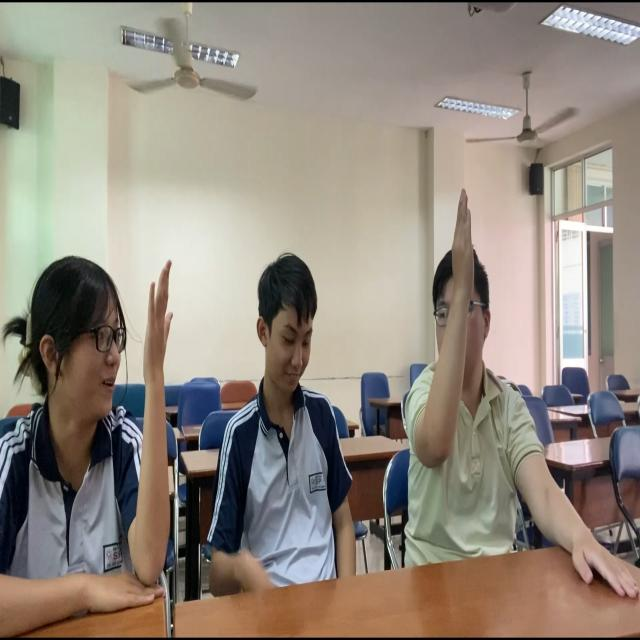raise_hand: (2, 180, 199, 637), (395, 191, 520, 591)
